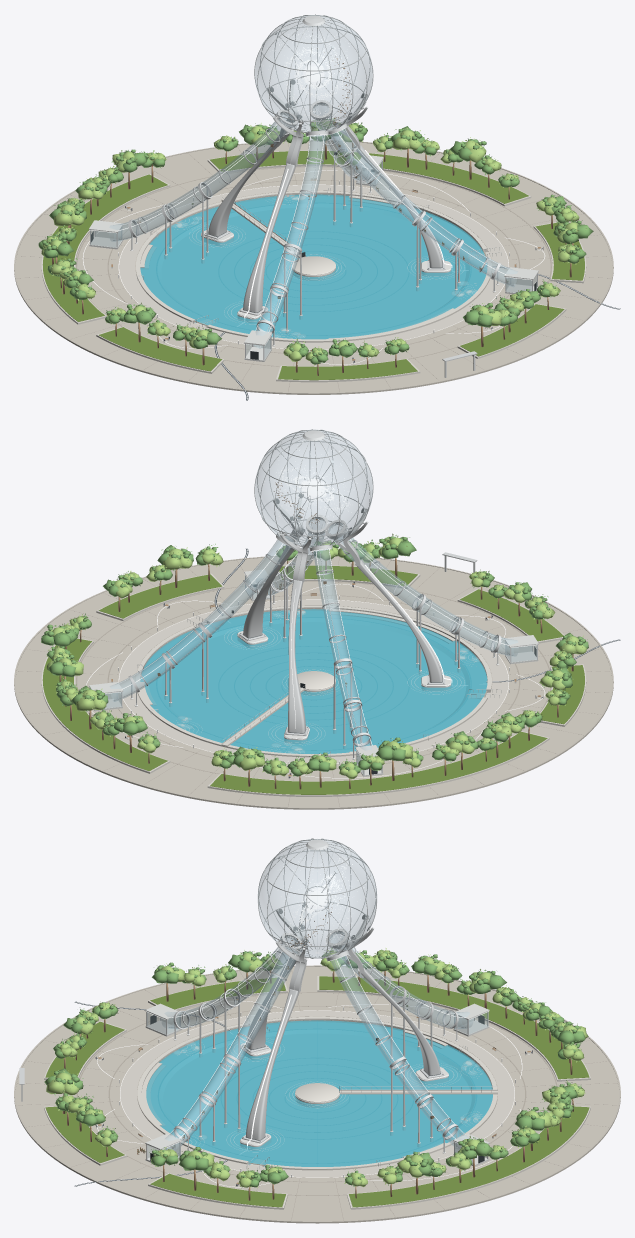
File: q10a-solar-furnace-nocrown.glb
The picture shows the model from 3 angles, top to bottom: view 1: azimuth 30°, elevation 25°; view 2: azimuth 150°, elevation 25°; view 3: azimuth 270°, elevation 25°; orthographic projection.
Visible parts, largest first — view 1: PLAZA_GROUND, POOL_BASIN, POOL_WATER, FEED, FURNACE_SHELL, FURNACE_MULLIONS, STRUCTURE_COLUMNS, STRUCTURE_CRADLE, FURNACE_SPARKS, STRUCTURE_BASES, POWER_LINES, TREE_11 (+8 smaller); view 2: PLAZA_GROUND, POOL_BASIN, POOL_WATER, FEED, FURNACE_SHELL, STRUCTURE_COLUMNS, FURNACE_MULLIONS, STRUCTURE_CRADLE, STRUCTURE_BASES, FURNACE_SPARKS, TREE_29, TREE_11 (+10 smaller); view 3: PLAZA_GROUND, POOL_BASIN, POOL_WATER, FEED, FURNACE_SHELL, FURNACE_MULLIONS, STRUCTURE_COLUMNS, STRUCTURE_CRADLE, STRUCTURE_BASES, FURNACE_SPARKS, TREE_11, TREE_23 (+9 smaller).
Part boxes in pixels (x1,y1,x2,y2): PLAZA_GROUND: (14,140,613,394); POOL_BASIN: (135,188,501,342); POOL_WATER: (140,194,486,339); FEED: (89,103,538,361); FURNACE_SHELL: (255,15,372,131); FURNACE_MULLIONS: (254,14,373,136); STRUCTURE_COLUMNS: (208,133,442,312); STRUCTURE_CRADLE: (267,79,368,166); FURNACE_SPARKS: (263,28,359,120); STRUCTURE_BASES: (201,228,451,322); POWER_LINES: (214,150,620,400); TREE_11: (463,303,502,346); PLAZA_GROUND: (14,552,613,809); POOL_BASIN: (135,605,501,757); POOL_WATER: (140,609,487,753); FEED: (89,518,538,776); FURNACE_SHELL: (255,430,372,546); STRUCTURE_COLUMNS: (242,547,442,733); FURNACE_MULLIONS: (254,429,373,551); STRUCTURE_CRADLE: (273,493,368,582); STRUCTURE_BASES: (237,631,451,743); FURNACE_SPARKS: (263,441,359,537); TREE_29: (71,685,108,729); TREE_11: (378,533,416,578); PLAZA_GROUND: (14,965,620,1223); POOL_BASIN: (137,1015,497,1170); POOL_WATER: (146,1020,492,1166); FEED: (137,932,489,1166); FURNACE_SHELL: (258,839,376,958); FURNACE_MULLIONS: (258,838,376,961); STRUCTURE_COLUMNS: (245,959,440,1140); STRUCTURE_CRADLE: (275,903,374,992); STRUCTURE_BASES: (240,1043,448,1150); FURNACE_SPARKS: (271,856,365,946); TREE_11: (44,1068,83,1113); TREE_23: (397,1151,433,1194).
Size of the model in its own units: 152 by 71.25 by 152.
